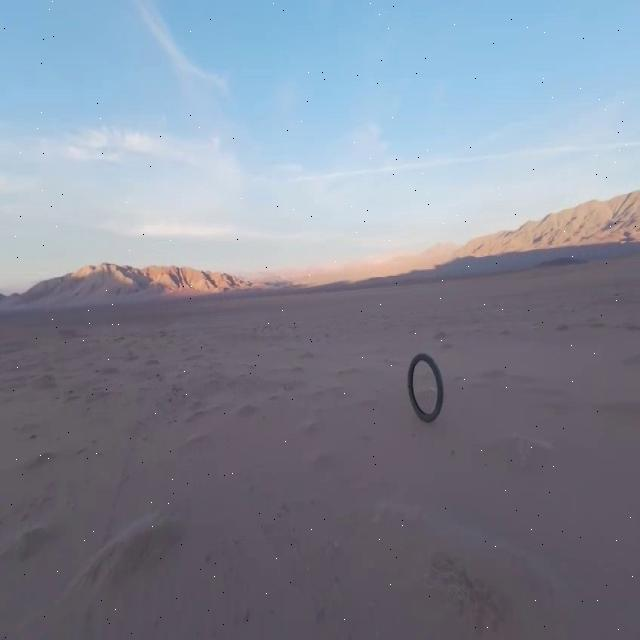Tire: (408, 353, 442, 422)
